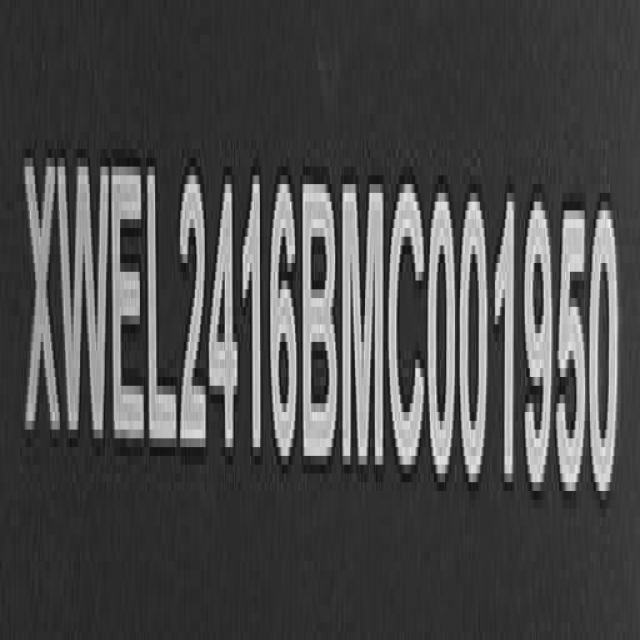0: (592, 207, 622, 504), (458, 189, 487, 492), (430, 184, 458, 488)
1: (496, 190, 520, 495), (241, 169, 262, 470)
2: (182, 169, 211, 467)
4: (211, 172, 240, 468)
5: (555, 198, 586, 501)
6: (269, 170, 299, 469)
9: (524, 198, 553, 494)
B: (302, 176, 340, 471)
C: (392, 178, 427, 482)
E: (112, 160, 147, 459)
L: (147, 164, 180, 466)
M: (344, 176, 385, 475)
W: (60, 149, 110, 457)
X: (23, 148, 59, 455)
